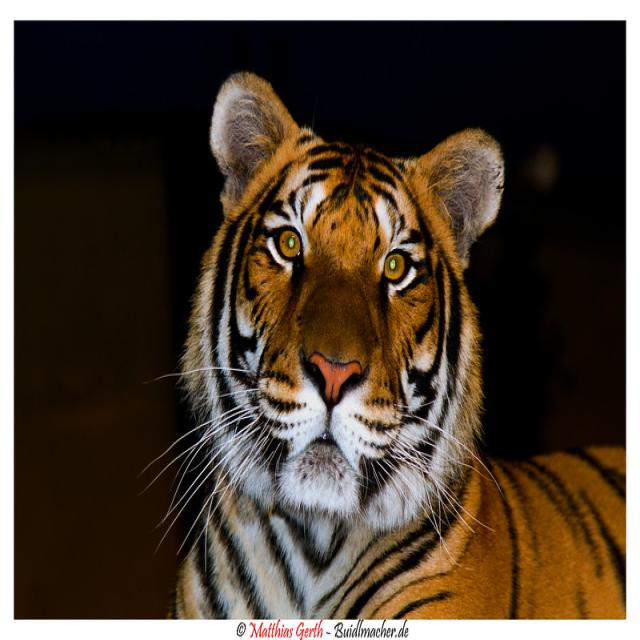Tiger: (154, 55, 556, 618)
